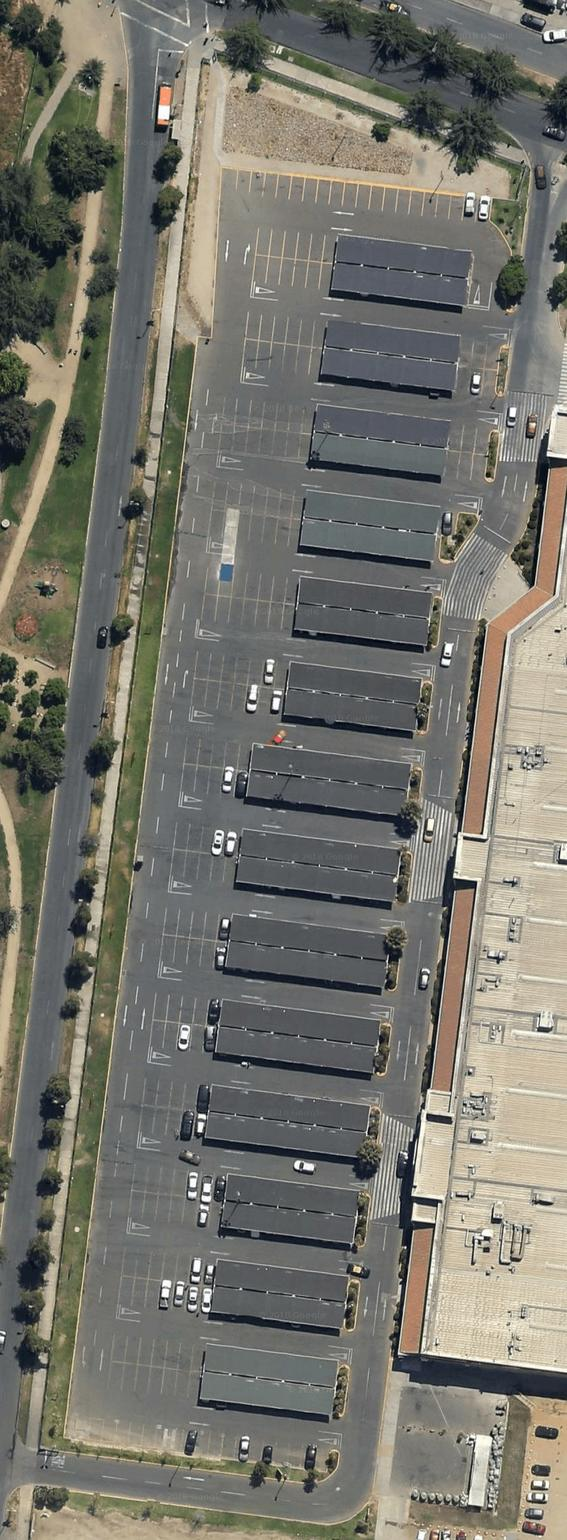parkingspot: (219, 165, 494, 228), (63, 1413, 332, 1474), (517, 1407, 561, 1539), (120, 1245, 219, 1289), (211, 477, 308, 521), (109, 1333, 209, 1375), (203, 564, 300, 607), (193, 649, 292, 691), (206, 508, 305, 549), (105, 1361, 204, 1402), (127, 1190, 225, 1231), (130, 1164, 230, 1203), (217, 423, 314, 463), (200, 593, 297, 632), (190, 678, 287, 717), (221, 396, 317, 435), (244, 310, 329, 350), (255, 225, 339, 265), (251, 254, 335, 294), (241, 339, 326, 377), (141, 1075, 215, 1115), (137, 1103, 210, 1143), (172, 819, 244, 859), (162, 906, 235, 945), (151, 991, 225, 1029), (183, 735, 256, 773), (169, 847, 241, 885), (149, 1019, 221, 1055), (158, 935, 229, 971), (180, 764, 250, 800), (409, 1522, 509, 1540), (442, 448, 489, 485), (445, 422, 493, 457), (458, 337, 503, 373), (454, 364, 499, 399), (437, 506, 461, 538)
